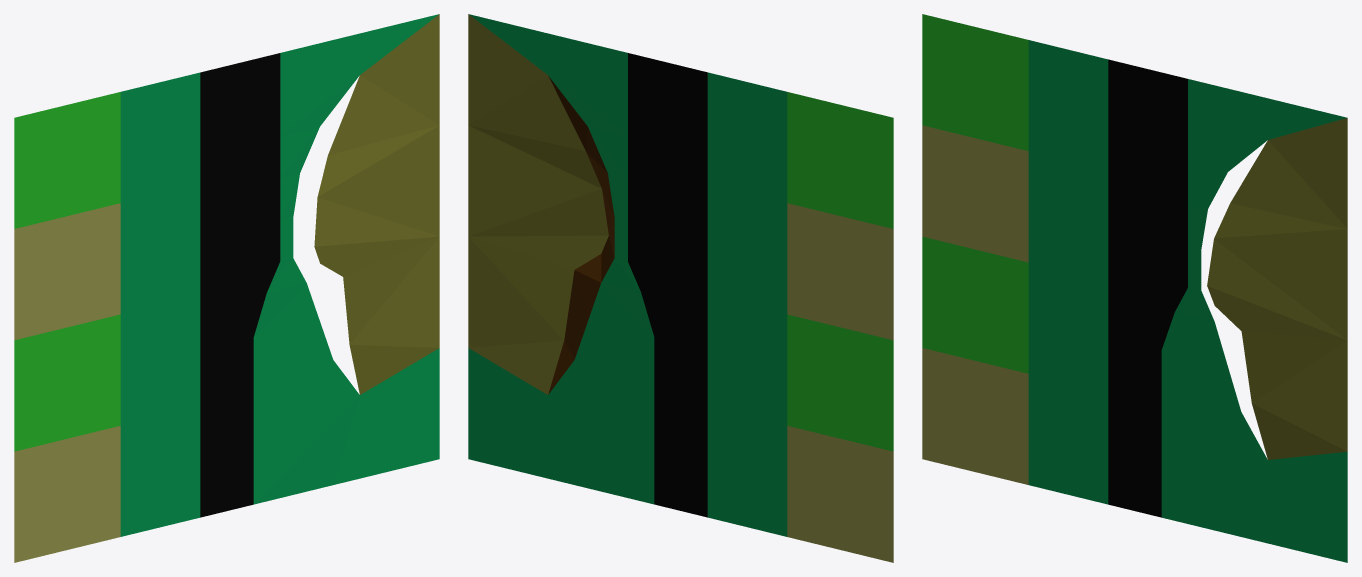
File: tiles2_52.obj
3 views of the same model, side by side, from view 1: azimuth 30°, elevation 25°; view 2: azimuth 150°, elevation 25°; view 3: azimuth 330°, elevation 25° (orthographic).
Bounding box in the file's own units: 40.96 × 40.96 × 1.28.
